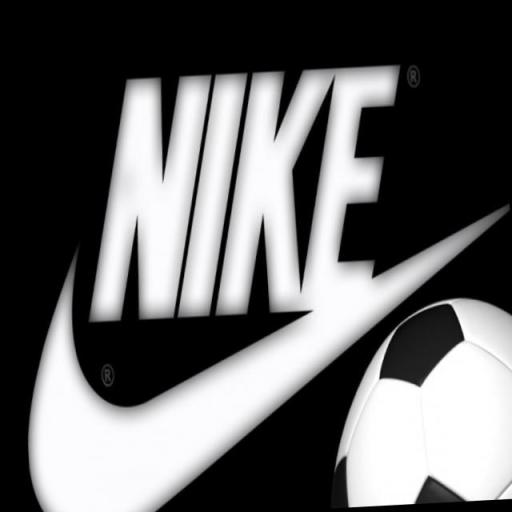Nike: (14, 197, 511, 512), (73, 56, 420, 331)
